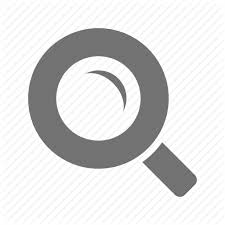searchIcon: (27, 26, 198, 198)
